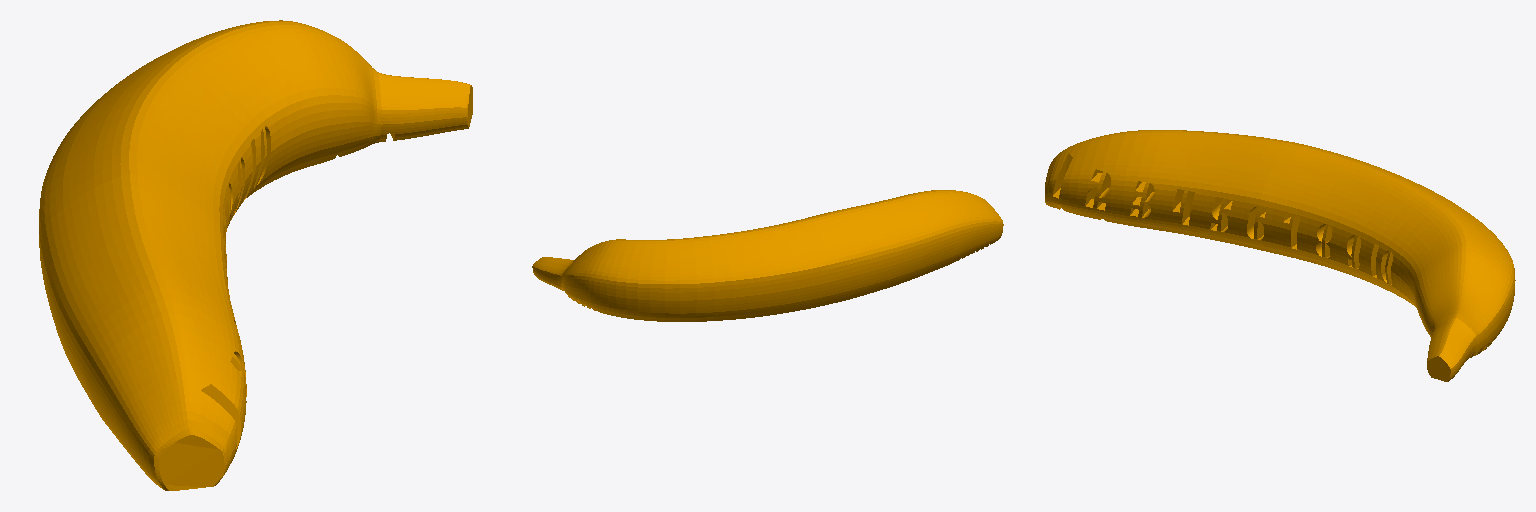
robot.urdf — banana_scale:
<?xml version="1.0" ?>
<robot name="banana_scale" xmlns:xacro="http://www.ros.org/wiki/xacro">
  <link name="banana_scale">
    <inertial>
      <mass value=".25"/>
      <origin rpy="0 0 0" xyz="0 0 0"/>
      <inertia ixx="1e-4" ixy="0" ixz="0" iyy="1e-4" iyz="0" izz="1e-4"/>
    </inertial>
    <visual>
      <origin rpy="1.570796325 0 1.570796325" xyz="0 0 0"/>
      <geometry>
        <mesh filename="package://objects/meshes/banana_scale.obj"/>
      </geometry>
    </visual>
    <collision>
      <origin rpy="0 0 1.570796325" xyz="0 0 0"/>
      <geometry>
        <mesh filename="package://objects/meshes/banana_scale.stl"/>
      </geometry>
    </collision>
  </link>
</robot>

--- What the picture shows (computed from the rendered views, not written in the file) ---
Views: 3 orthographic renders of the robot side by side, from view 1: azimuth 30°, elevation 25°; view 2: azimuth 150°, elevation 25°; view 3: azimuth 270°, elevation 25°.
Model banana_scale with 1 links and 0 joints (none), rooted at banana_scale, posed all joints at 0.
Visible links, largest first — view 1: banana_scale; view 2: banana_scale; view 3: banana_scale.
Boxes of the visible links, x1,y1,x2,y2 form: banana_scale: (39,20,472,490); banana_scale: (532,190,1003,321); banana_scale: (1045,130,1515,381).
Size in the robot's own frame: 0.202 by 0.2057 by 0.0454 metres.
Meshes: 1 distinct files referenced, 1 mesh visuals loaded (1 OBJ).
